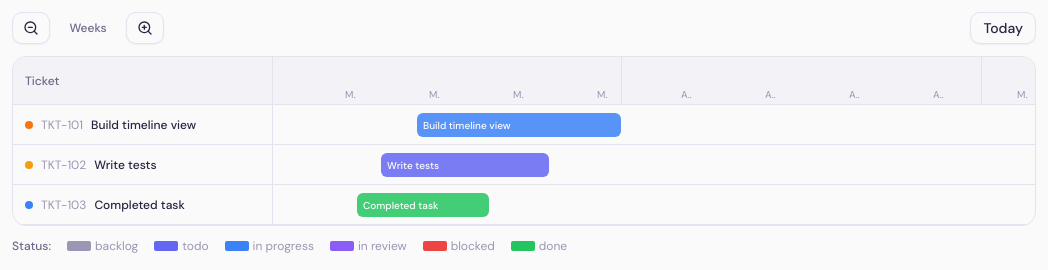
it: TicketTimeline › zooms out when clicking zoom out button
Click the button with test id "timeline-zoom-out" at (31, 28), box [12,12,50,44]
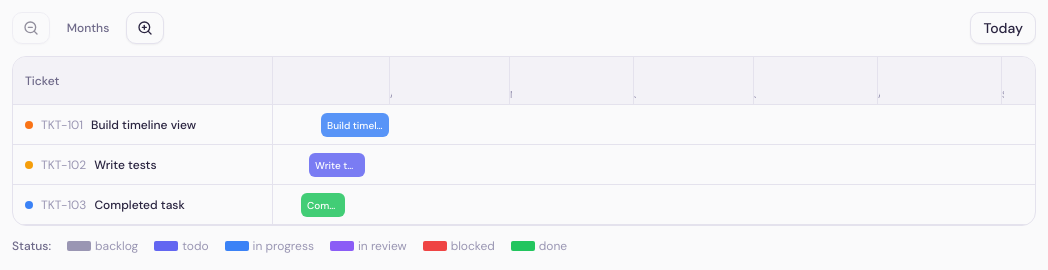
Result: the text with test id "timeline-zoom-level" reads "Months" at [67,20,109,36]
